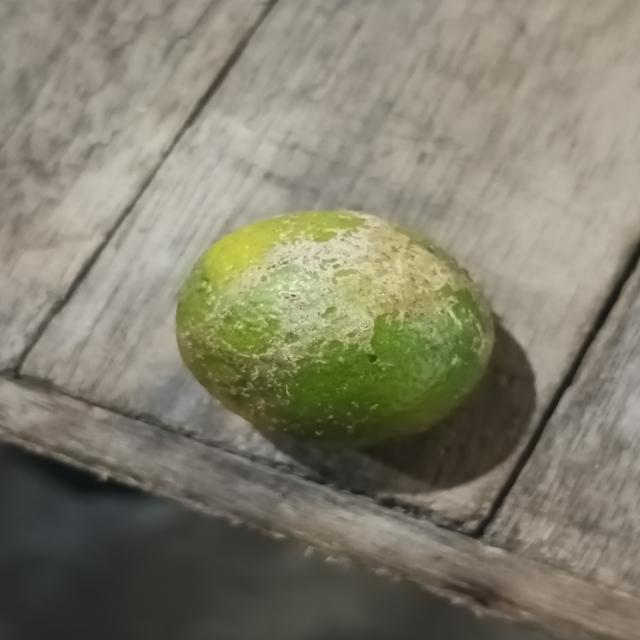thrips: (176, 209, 494, 448)
